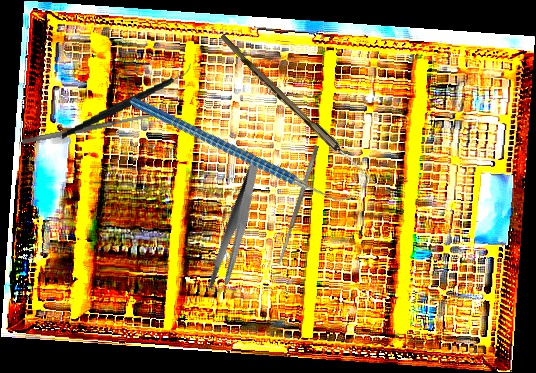Chopper: (129, 34, 359, 265), (54, 59, 199, 141)
Dressing Forceps: (180, 156, 293, 296)
Spatula Surgical: (275, 145, 321, 265), (21, 112, 157, 145)
Surgical Spoon: (216, 33, 385, 193)
